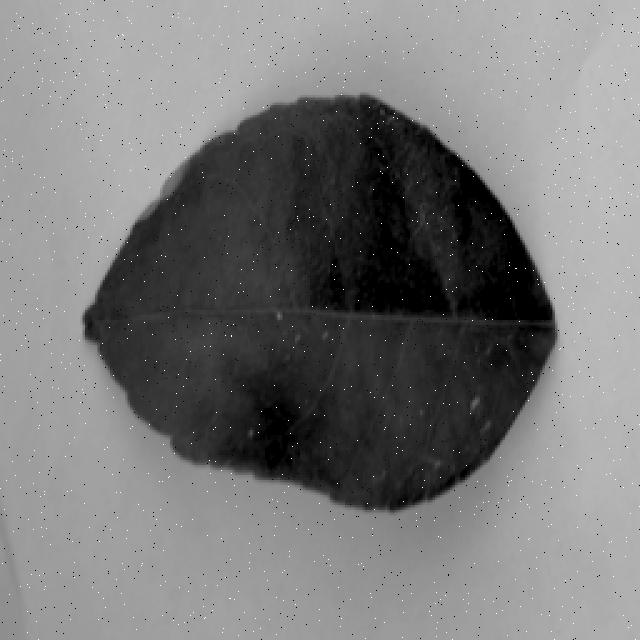healthy: (56, 88, 564, 526)
